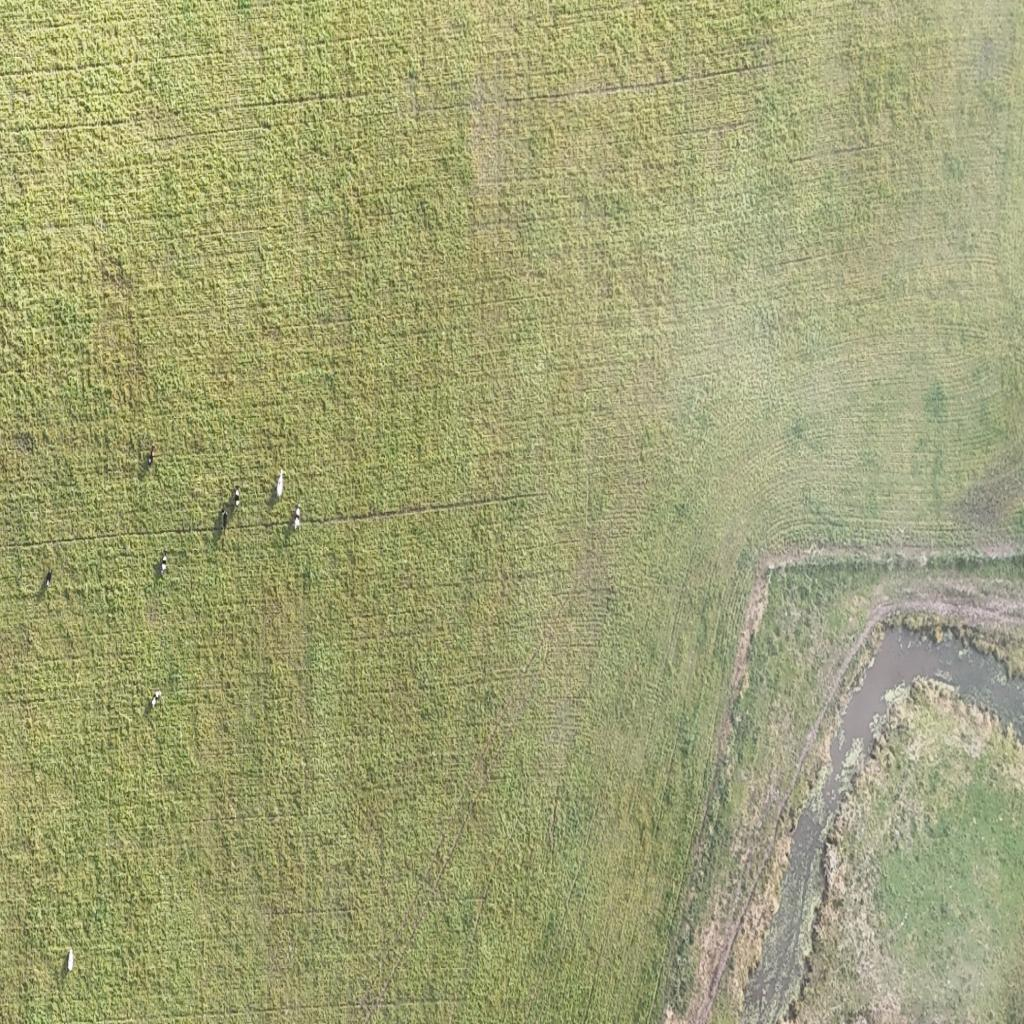cow: (276, 468, 284, 498), (293, 505, 301, 531), (152, 690, 162, 709), (160, 553, 168, 576), (148, 445, 156, 467), (233, 486, 240, 508), (46, 568, 52, 590), (68, 948, 74, 970), (222, 508, 228, 530)
